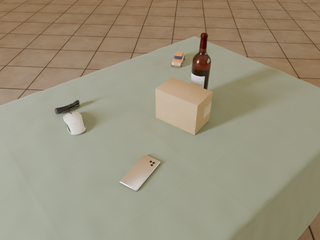bottle: (190, 33, 211, 89)
box: (156, 77, 212, 135)
mouse: (64, 112, 86, 135)
phone: (120, 155, 160, 191)
toy_car: (171, 51, 185, 67)
